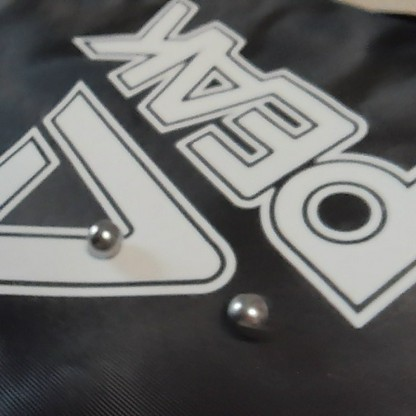ironball: (227, 291, 266, 334), (86, 219, 118, 254)
